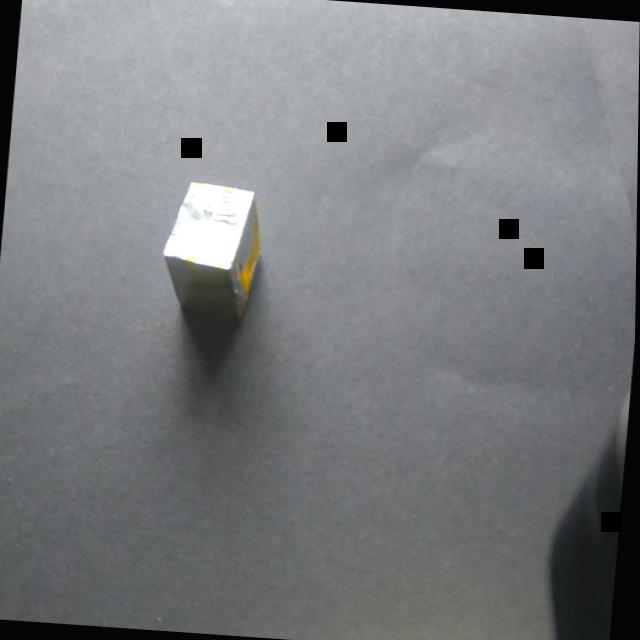Chickenstock: (123, 156, 283, 356)
